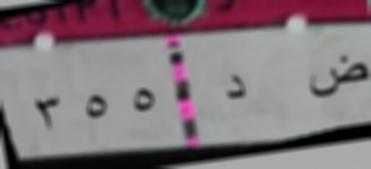3: (35, 90, 66, 134)
5: (79, 89, 113, 127), (130, 81, 160, 120)
daad: (304, 53, 370, 107)
daal: (219, 72, 254, 108)
